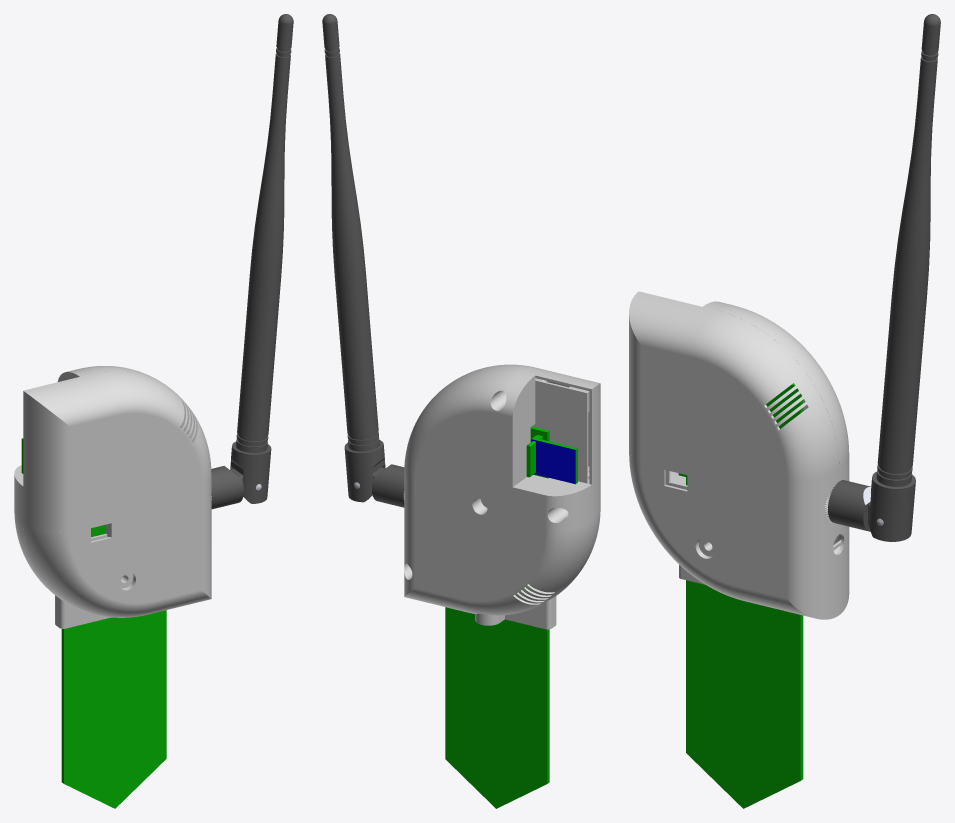
Rendered from node fix.glb.
The picture shows the model from 3 angles, left to right: view 1: azimuth 30°, elevation 25°; view 2: azimuth 150°, elevation 25°; view 3: azimuth 330°, elevation 25°; orthographic projection. The views are drawn at different scales.
Visible parts, largest first — view 1: node atas ye, node doang, Antennae, node coba tutup, node bawah ye, Antenna hub; view 2: node bawah ye, node doang, Antennae, node atas ye, Antenna hub; view 3: node atas ye, node doang, Antennae, node coba tutup, node bawah ye, Antenna hub.
Boxes of the visible parts, x1,y1,x2,y2 form: node atas ye: [23, 370, 211, 628]; node doang: [21, 438, 166, 808]; Antennae: [230, 14, 293, 503]; node coba tutup: [51, 521, 198, 610]; node bawah ye: [14, 366, 189, 627]; Antenna hub: [211, 466, 261, 509]; node bawah ye: [404, 369, 591, 629]; node doang: [445, 426, 577, 808]; Antennae: [322, 14, 385, 502]; node atas ye: [456, 364, 600, 625]; Antenna hub: [354, 464, 404, 507]; node atas ye: [629, 291, 839, 619]; node doang: [678, 383, 803, 808]; Antennae: [868, 14, 940, 541]; node coba tutup: [630, 454, 784, 597]; node bawah ye: [670, 301, 849, 614]; Antenna hub: [825, 480, 883, 531].
Size of the model in its own units: 0.1103 by 0.2948 by 0.032.
